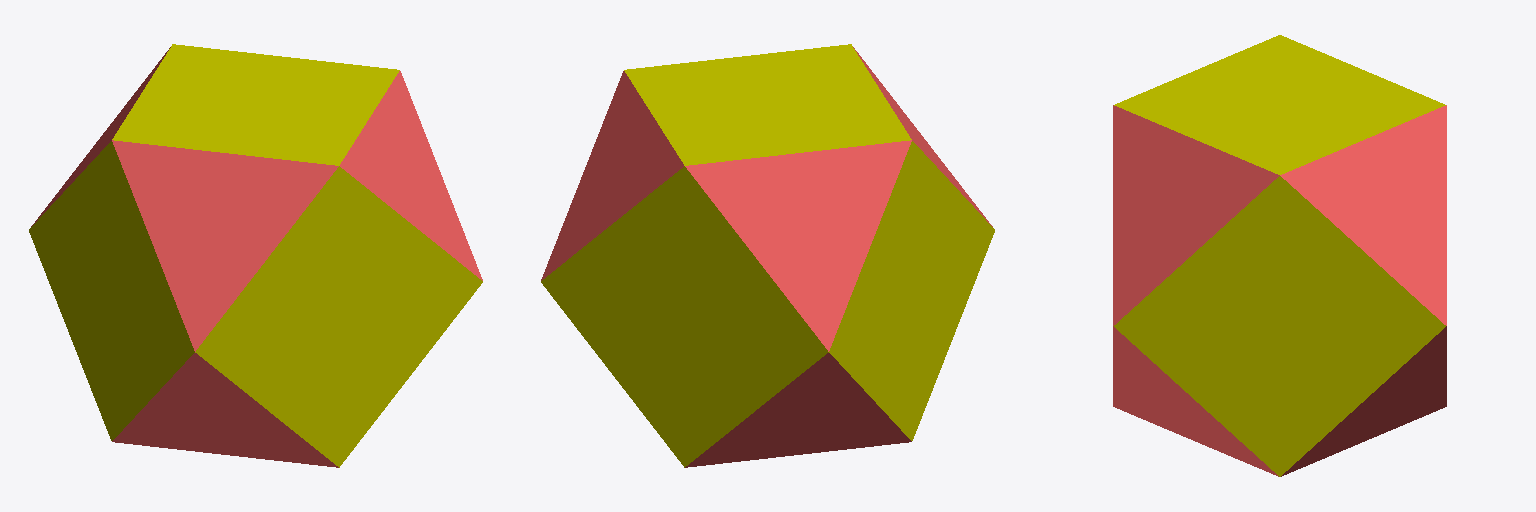
Rendered from Cuboctahedron.obj.
3 views of the same model, side by side, from view 1: azimuth 30°, elevation 25°; view 2: azimuth 150°, elevation 25°; view 3: azimuth 270°, elevation 25° (orthographic).
Size of the model in its own units: 1.41 by 1.41 by 1.41.